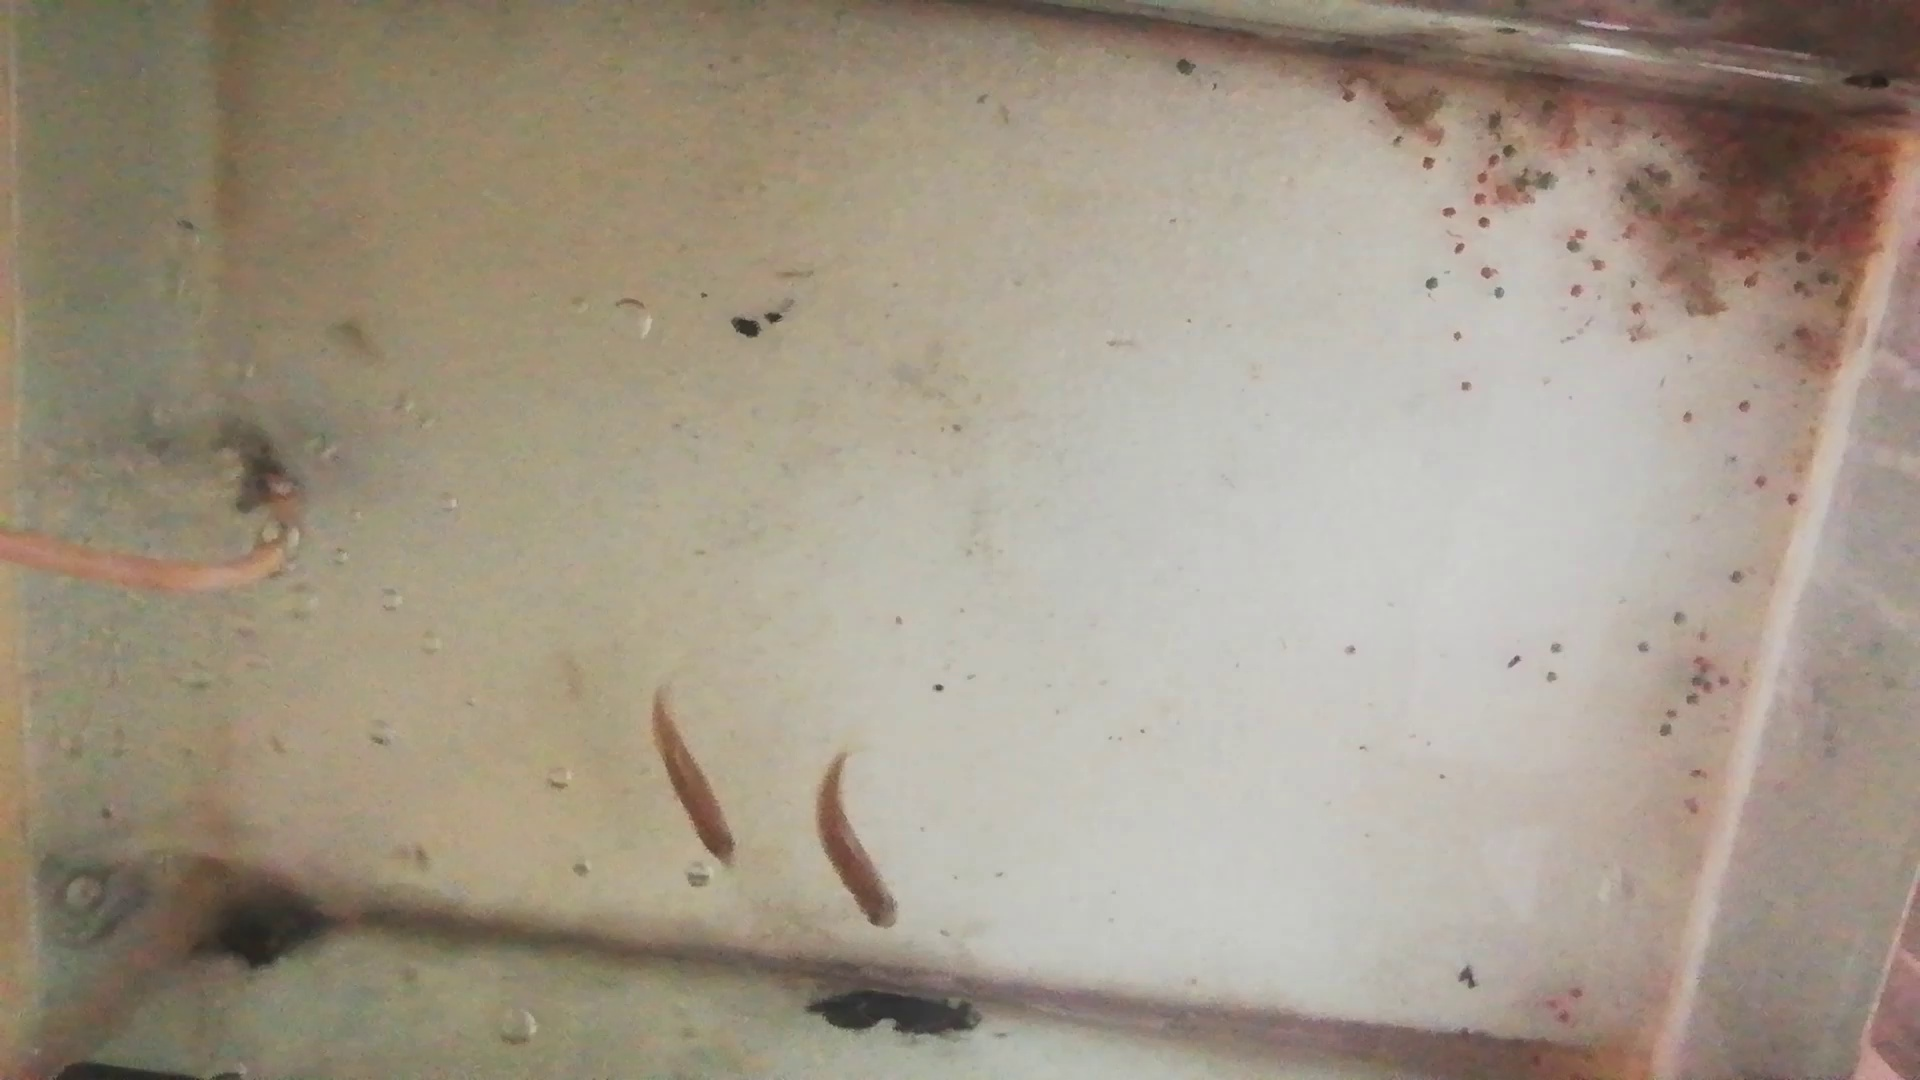fish: (647, 683, 736, 873), (814, 754, 902, 930)
